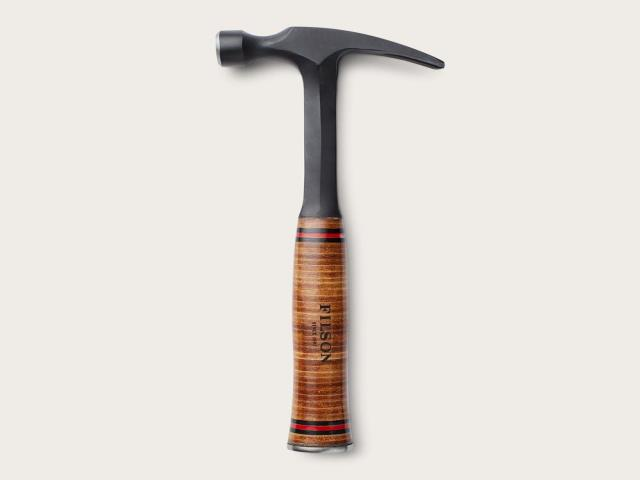hammer: (214, 25, 443, 454)
